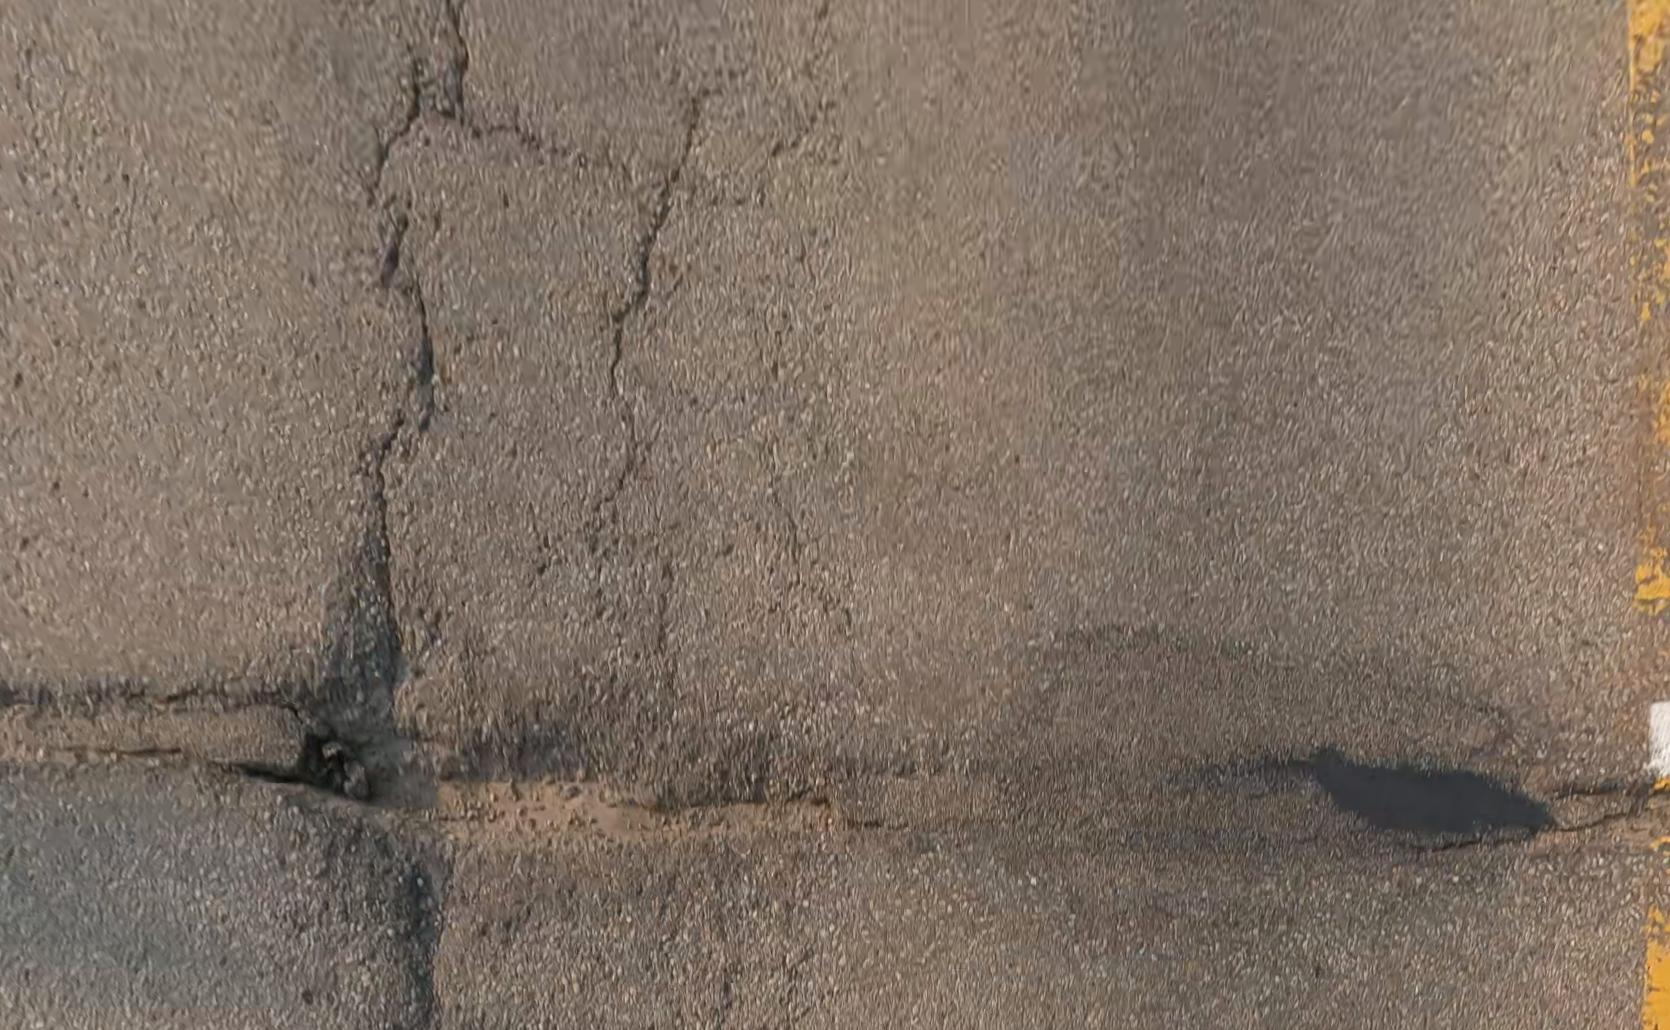pothole: (278, 616, 847, 982)
pothole_patch_good: (1303, 742, 1558, 841)
